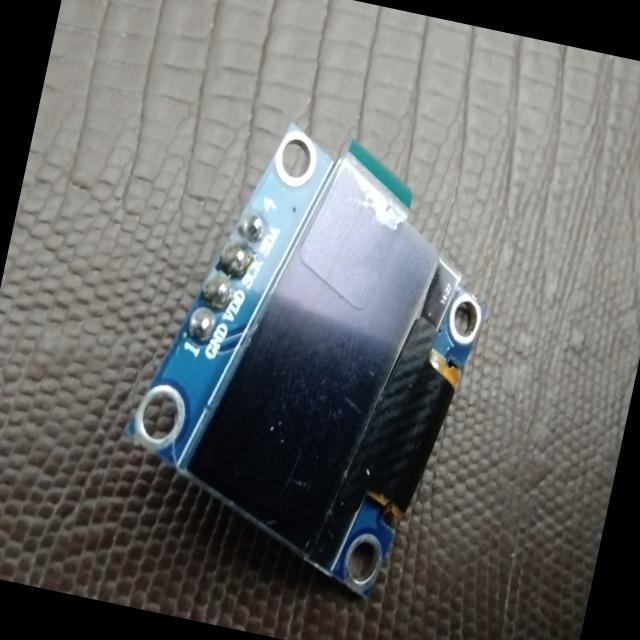oled: (98, 79, 522, 631)
